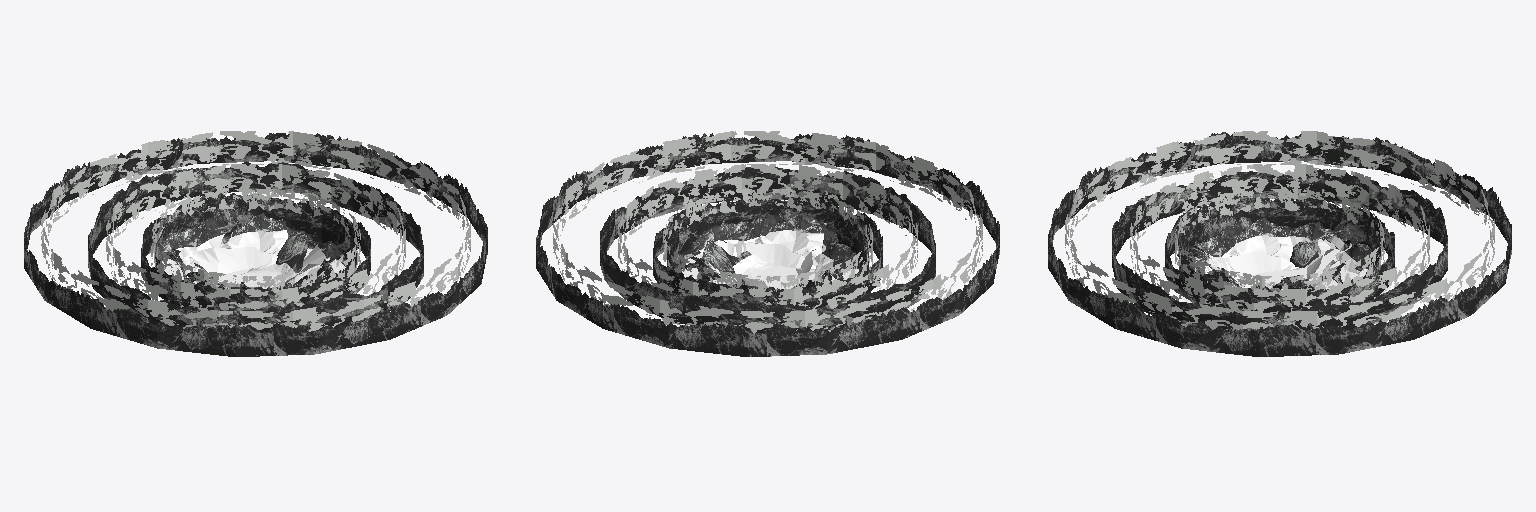
3 views of the same model, side by side, from view 1: azimuth 30°, elevation 25°; view 2: azimuth 150°, elevation 25°; view 3: azimuth 270°, elevation 25° (orthographic).
Visible parts, largest first — view 1: mesh4, mesh5, mesh1, mesh0, mesh2; view 2: mesh4, mesh5, mesh1, mesh0, mesh2; view 3: mesh4, mesh5, mesh1, mesh0, mesh2.
Part boxes in pixels (left/top/right/bottom): mesh4: left=24, top=133, right=487, bottom=356; mesh5: left=41, top=131, right=470, bottom=331; mesh1: left=162, top=230, right=325, bottom=288; mesh0: left=158, top=209, right=343, bottom=289; mesh2: left=161, top=244, right=345, bottom=299; mesh4: left=536, top=133, right=999, bottom=356; mesh5: left=553, top=131, right=982, bottom=333; mesh1: left=699, top=230, right=842, bottom=288; mesh0: left=677, top=209, right=858, bottom=289; mesh2: left=682, top=253, right=858, bottom=289; mesh4: left=1048, top=132, right=1511, bottom=356; mesh5: left=1065, top=131, right=1494, bottom=329; mesh1: left=1201, top=235, right=1360, bottom=292; mesh0: left=1177, top=217, right=1372, bottom=291; mesh2: left=1181, top=249, right=1390, bottom=302.
Size of the model in its own units: 3144 by 523 by 3144.
6 materials, 3 textured.